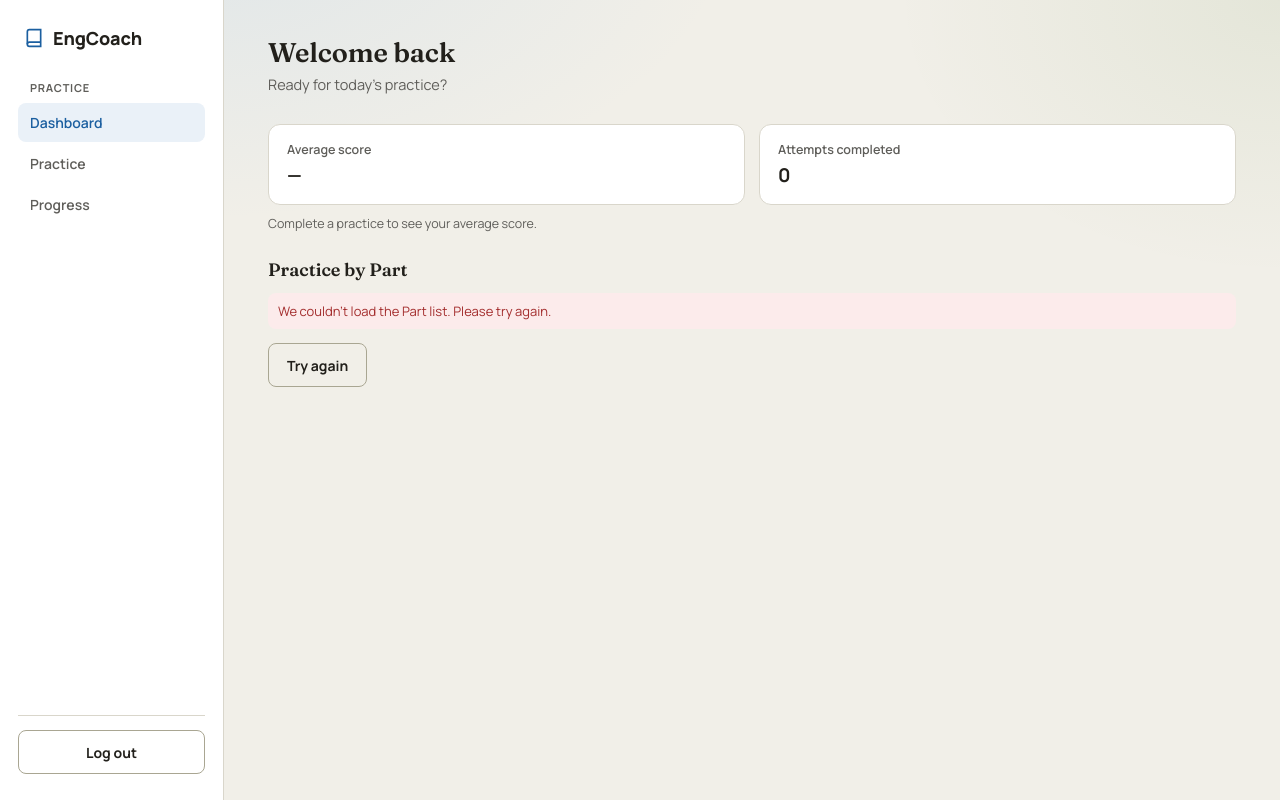
Dashboard — Part list (S6b) › server error: shows an alert, and Try again reloads the list
The width and height of the screenshot is (1280, 800).
Expected: the message shows "couldn't load the Part list", [278,302,551,320]
Click the button "Try again" at (318, 365), box [268,343,367,387]
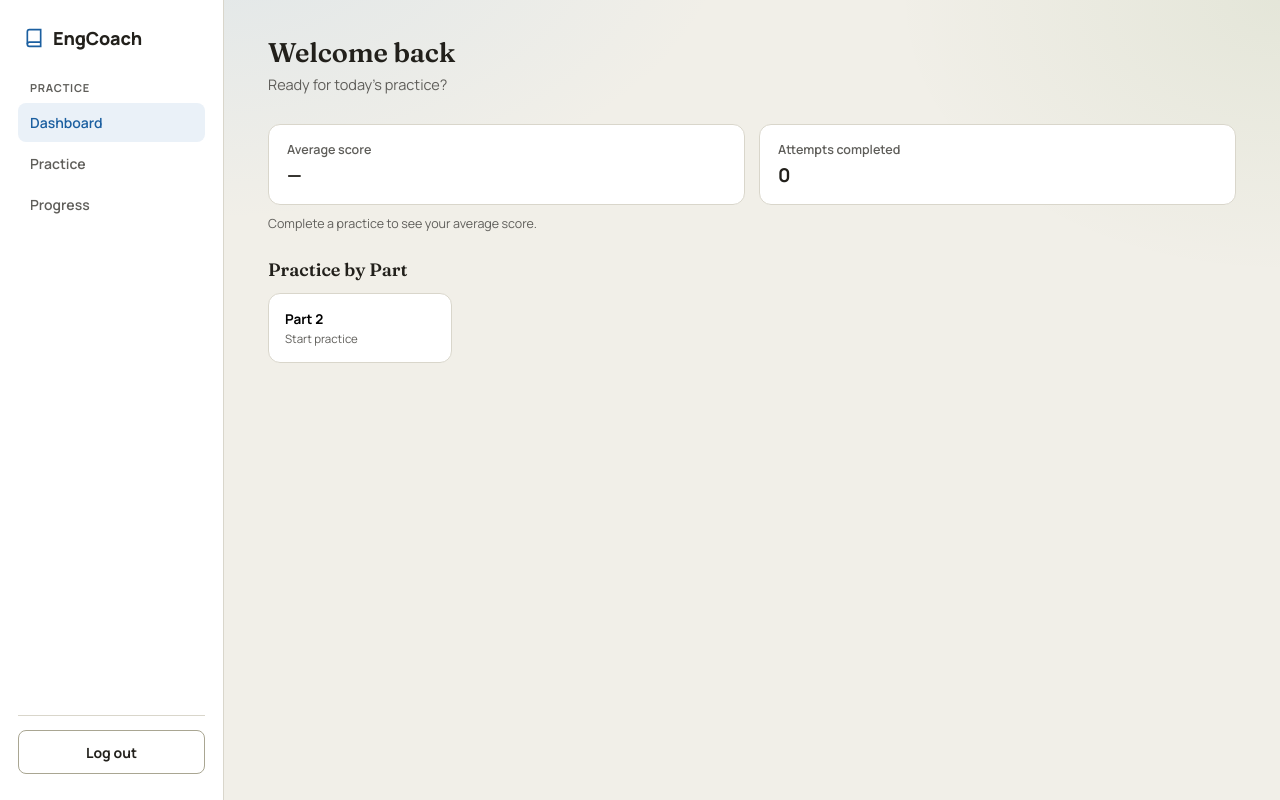
Result: the text "Part 2" is shown at [285,310,323,328]
Result: the message "We couldn't load the Part list. Please try again." is gone
